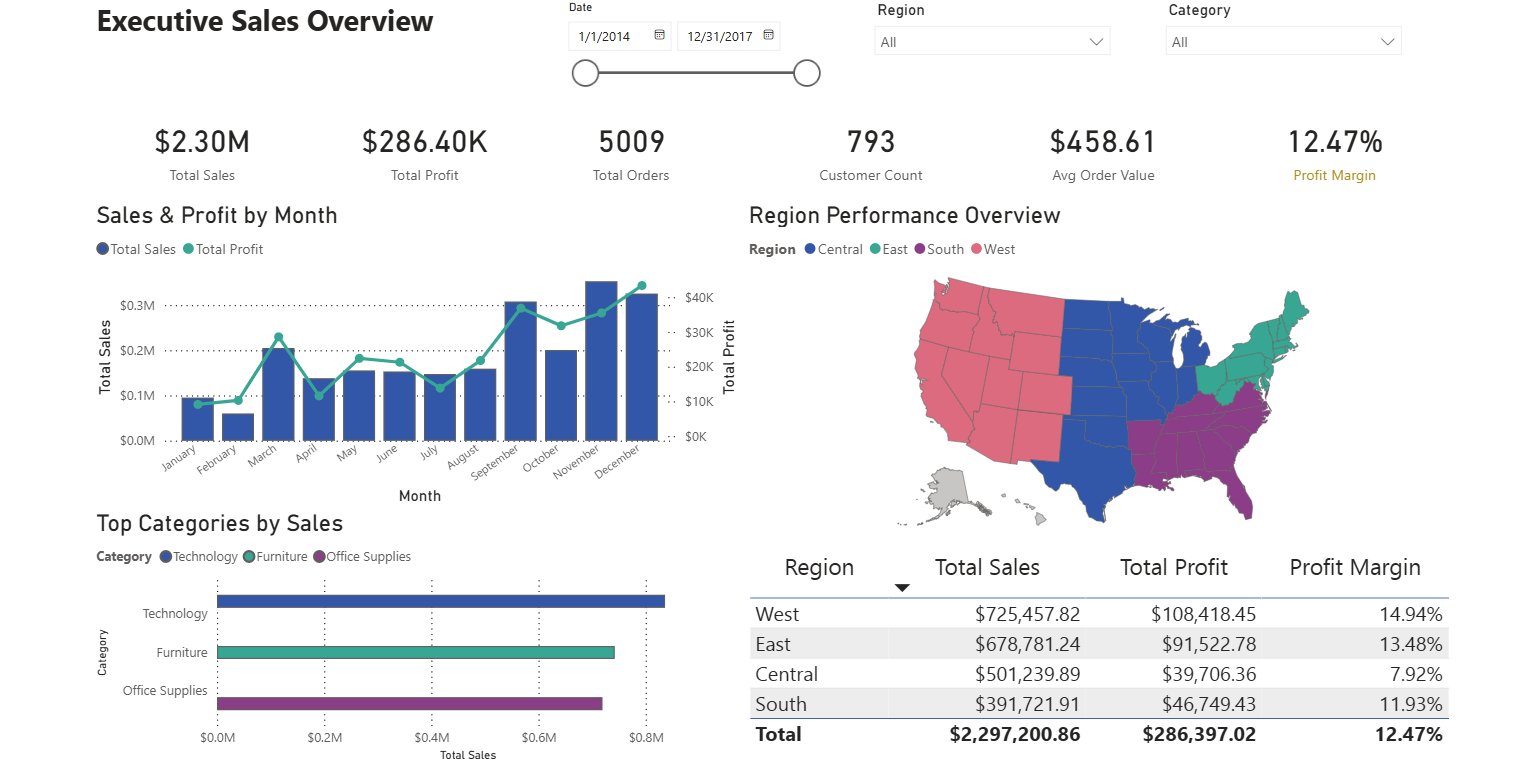

This screenshot's page, from the dashboard's own definition file:
{"tool":"powerbi","page":{"name":"Executive Sales Overview","canvas":[1280,720],"ordinal":0},"visuals":[{"type":"textbox","box":[0,0,368,64],"z":0},{"type":"shapeMap","title":"Region Performance  Overview","fields":{"Category":["DimRegion.State"],"Series":["DimRegion.Region"],"Value":["MeasureALL.Total Sales"]},"box":[608,192,672,320],"z":0,"group":"g1"},{"type":"card","fields":{"Values":["MeasureALL.Total Sales"]},"box":[0,96,208,96],"z":1000},{"type":"tableEx","title":"Region Performance  Overview","fields":{"Values":["DimRegion.Region","MeasureALL.Total Sales","MeasureALL.Total Profit","MeasureALL.Profit Margin"]},"box":[608,512,672,208],"z":1000,"group":"g1"},{"type":"card","fields":{"Values":["MeasureALL.Total Profit"]},"box":[208,96,208,96],"z":2000},{"type":"card","fields":{"Values":["MeasureALL.Total Orders"]},"box":[400,96,208,96],"z":3000},{"type":"card","fields":{"Values":["MeasureALL.Customer Count"]},"box":[624,96,208,96],"z":4000},{"type":"slicer","fields":{"Values":["DimDate.Date"]},"box":[432,0,256,96],"z":5000},{"type":"slicer","fields":{"Values":["DimRegion.Region"]},"box":[720,0,240,96],"z":6000},{"type":"card","fields":{"Values":["MeasureALL.Profit Margin"]},"box":[1056,96,208,96],"z":7000},{"type":"card","fields":{"Values":["MeasureALL.Avg Order Value"]},"box":[832,96,224,96],"z":8000},{"type":"lineClusteredColumnComboChart","title":"Sales & Profit  by Month","fields":{"Y":["MeasureALL.Total Sales"],"Y2":["MeasureALL.Total Profit"],"Category":["DimDate.Date.Variation.Date Hierarchy.Month"]},"box":[0,192,608,288],"z":9000},{"type":"clusteredBarChart","title":"Top Categories by Sales","fields":{"Category":["DimProduct.Category"],"Y":["MeasureALL.Total Sales"],"Series":["DimProduct.Category"]},"box":[0,480,608,240],"z":10000},{"type":"group","id":"g1","title":"Group 1","box":[608,192,672,528],"z":11000},{"type":"slicer","fields":{"Values":["DimProduct.Category"]},"box":[992,0,240,96],"z":12000}]}

Visuals, with their boxes on the page's 1280x720 design canvas (x1, y1, x2, y2). These are canvas units, not pixel positions in the 1527x763 screenshot, which may show the page scaled, cropped or inside an application window:
textbox: Rect(0, 0, 368, 64)
"Region Performance  Overview" shapeMap: Rect(608, 192, 1280, 512)
card - MeasureALL.Total Sales: Rect(0, 96, 208, 192)
"Region Performance  Overview" tableEx: Rect(608, 512, 1280, 720)
card - MeasureALL.Total Profit: Rect(208, 96, 416, 192)
card - MeasureALL.Total Orders: Rect(400, 96, 608, 192)
card - MeasureALL.Customer Count: Rect(624, 96, 832, 192)
slicer - DimDate.Date: Rect(432, 0, 688, 96)
slicer - DimRegion.Region: Rect(720, 0, 960, 96)
card - MeasureALL.Profit Margin: Rect(1056, 96, 1264, 192)
card - MeasureALL.Avg Order Value: Rect(832, 96, 1056, 192)
"Sales & Profit  by Month" lineClusteredColumnComboChart: Rect(0, 192, 608, 480)
"Top Categories by Sales" clusteredBarChart: Rect(0, 480, 608, 720)
"Group 1" group: Rect(608, 192, 1280, 720)
slicer - DimProduct.Category: Rect(992, 0, 1232, 96)
